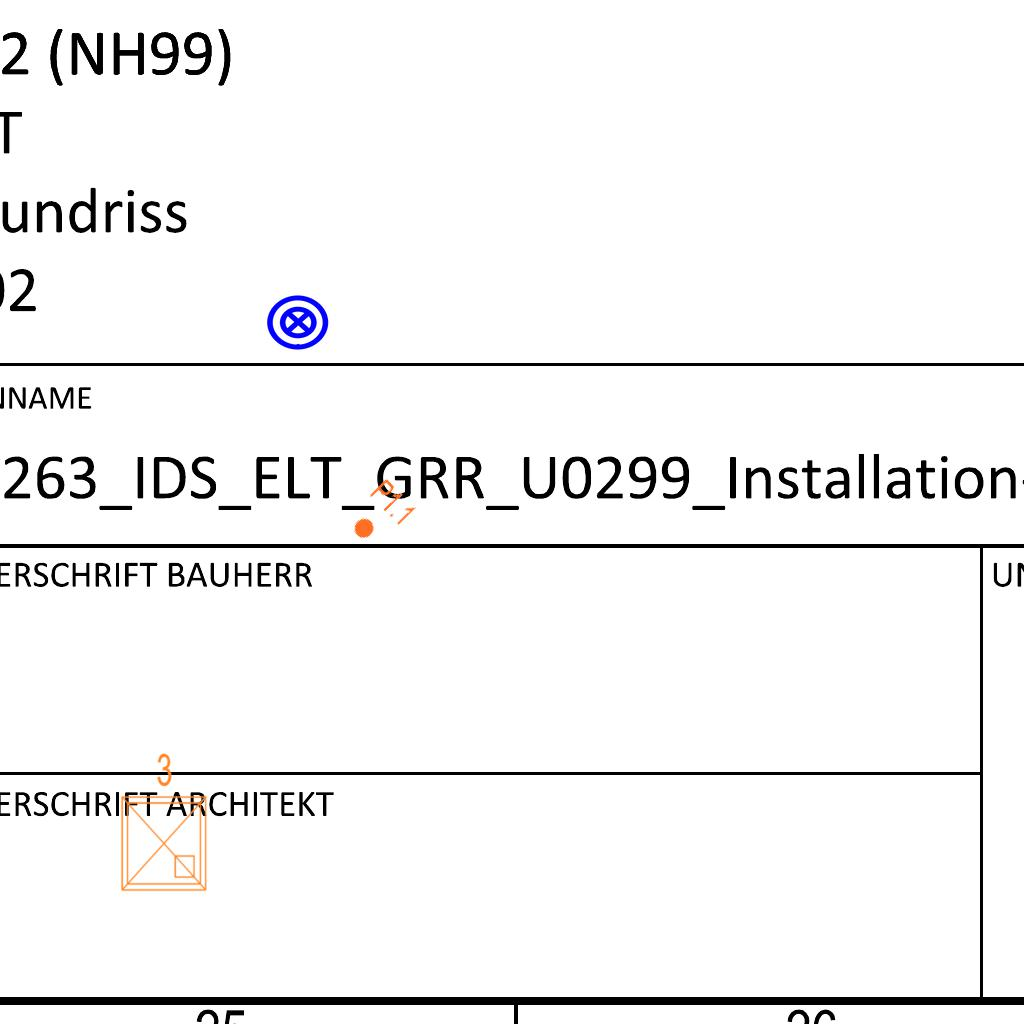Downlight_LED_Einbauleuchten_Flur: (341, 476, 419, 554)
Einbaudownlights_LED_Konferenzraeume: (110, 748, 214, 898)
Taster_beleuchtet: (265, 289, 331, 355)
